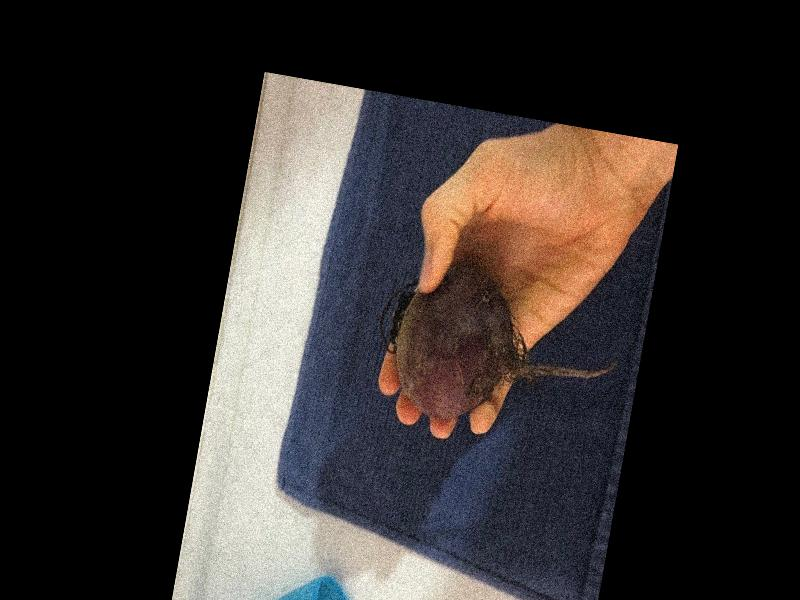Beet: (366, 254, 628, 447)
